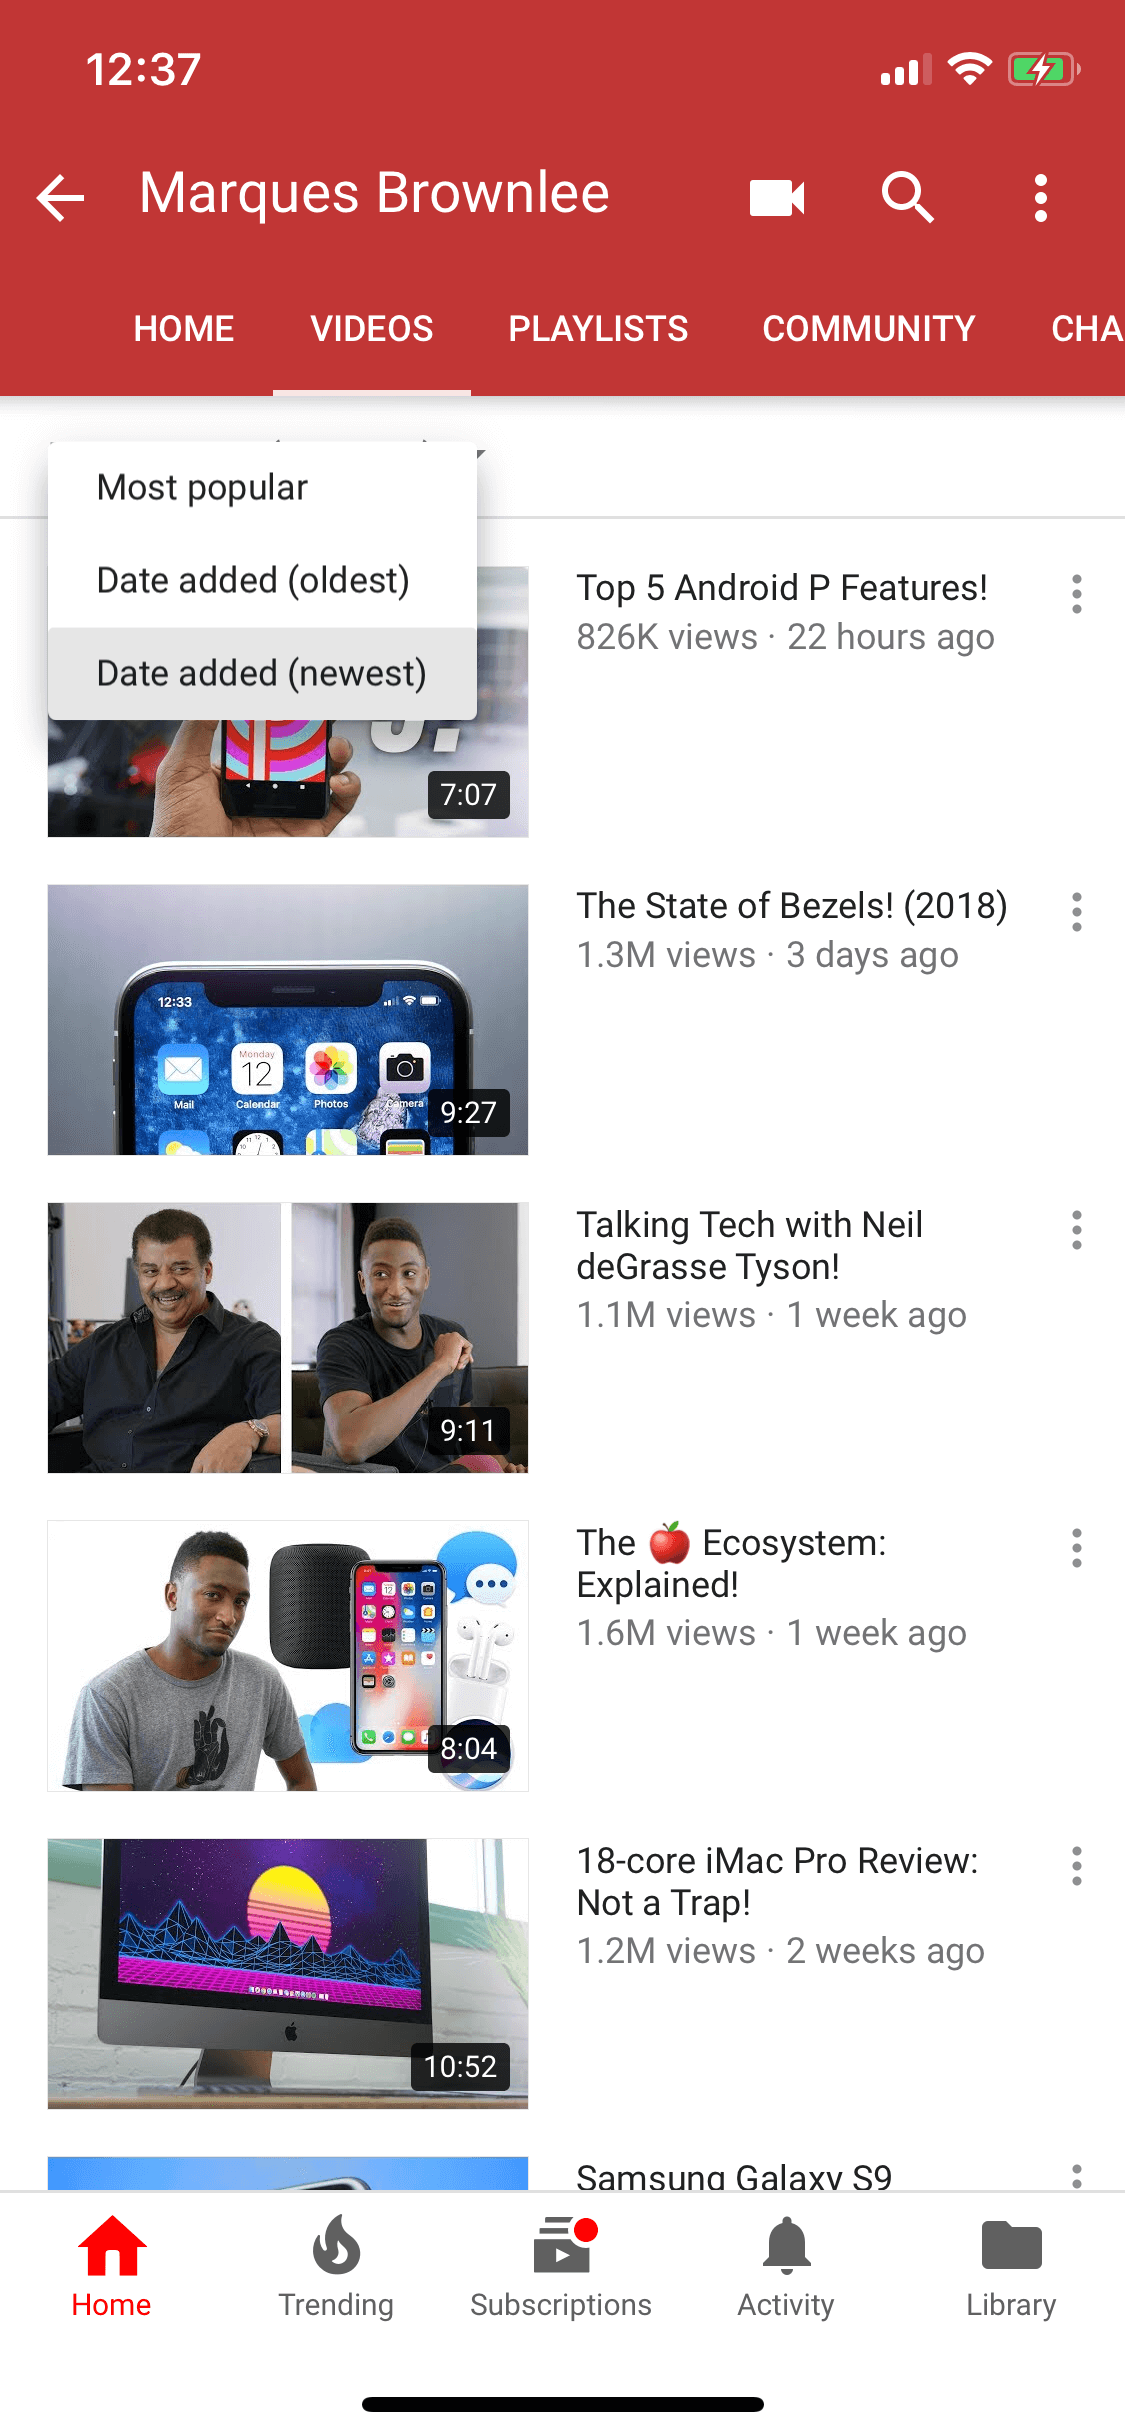Buttons: (11, 138, 113, 241), (859, 140, 962, 241), (719, 138, 819, 242), (998, 141, 1083, 235), (1036, 1816, 1116, 1905), (1035, 1501, 1111, 1592), (1032, 1190, 1103, 1271), (1038, 553, 1111, 629), (1038, 875, 1109, 949)
